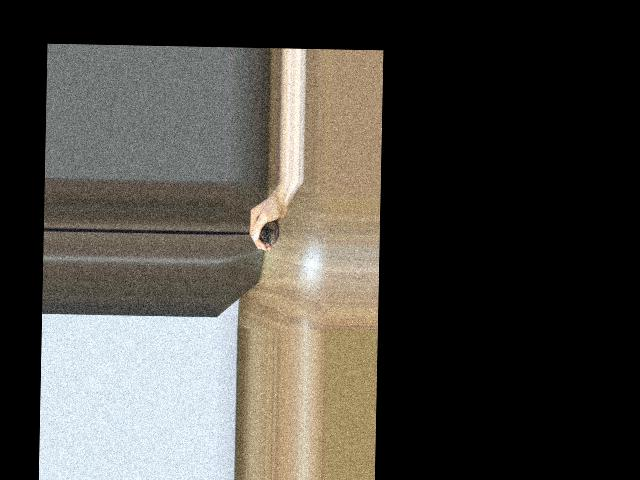beet: (240, 219, 279, 247)
